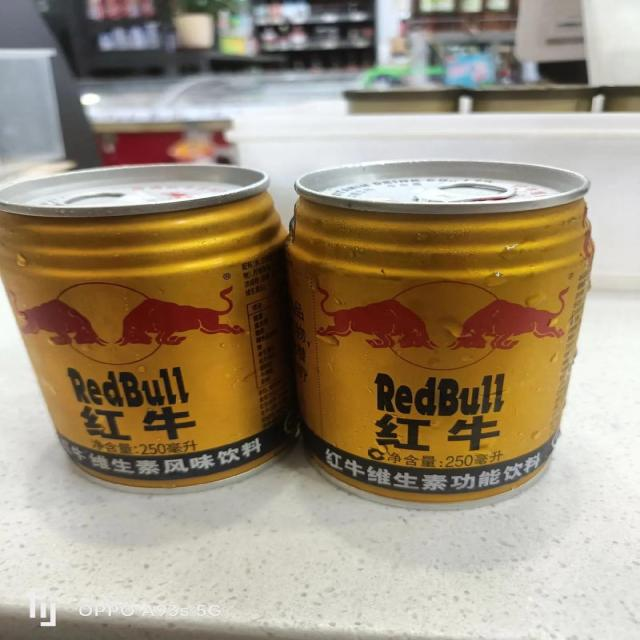can: (288, 157, 599, 515), (0, 160, 290, 496)
